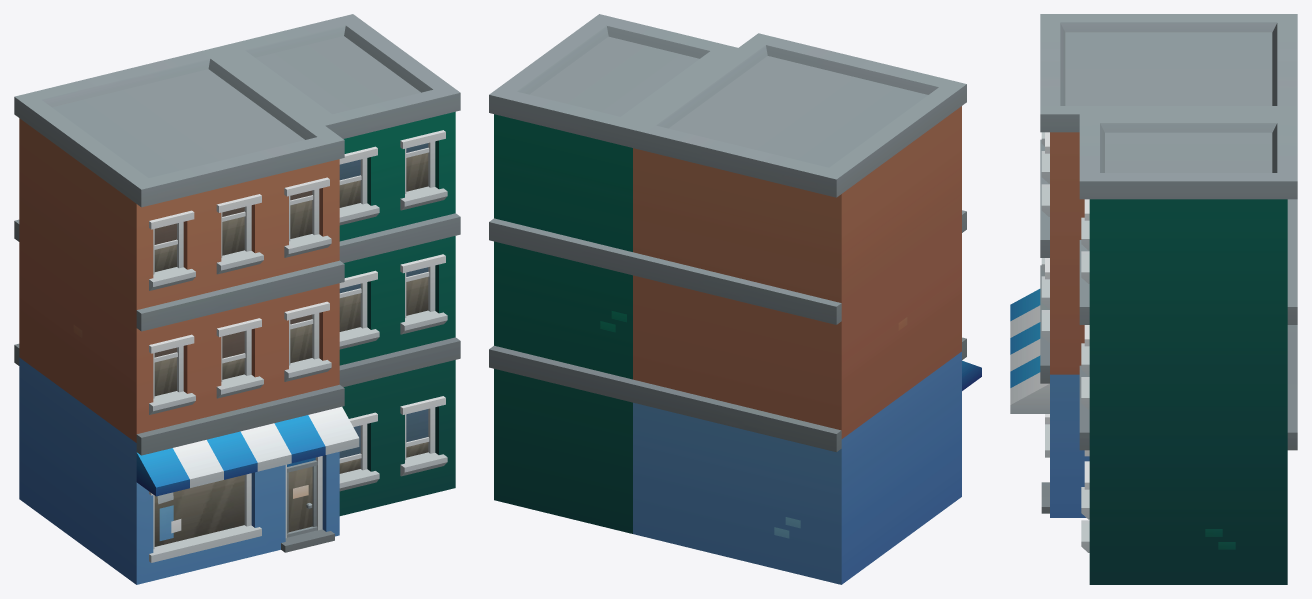
The model's file is building_G_withoutBase.glb.
The picture shows the model from 3 angles, left to right: view 1: azimuth 30°, elevation 25°; view 2: azimuth 150°, elevation 25°; view 3: azimuth 270°, elevation 25°; orthographic projection. The views are drawn at different scales.
Parts seen in each view (by area): view 1: building_G_withoutBase; view 2: building_G_withoutBase; view 3: building_G_withoutBase.
Part boxes in pixels (box(x1,y1,x2,y2)): building_G_withoutBase: box(14, 14, 460, 584); building_G_withoutBase: box(489, 14, 981, 584); building_G_withoutBase: box(1010, 14, 1297, 584).
Bounding box in the file's own units: 2.01 × 2.25 × 1.45.
1 material, 1 textured.
